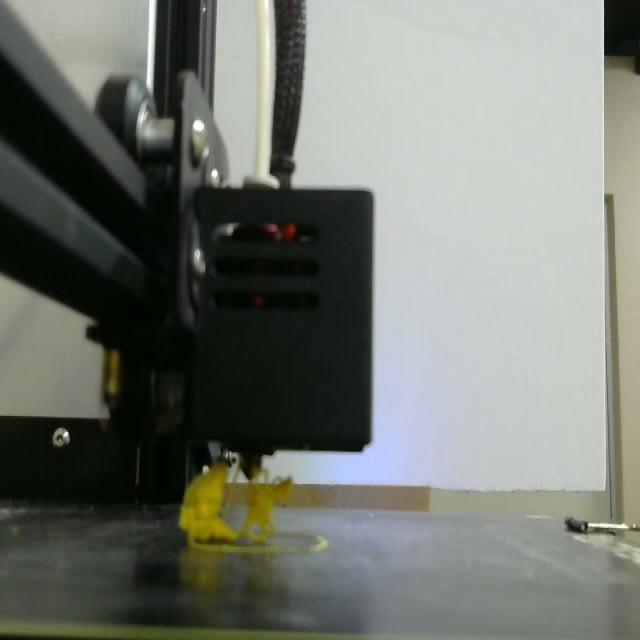spaghetti: (179, 462, 291, 543)
